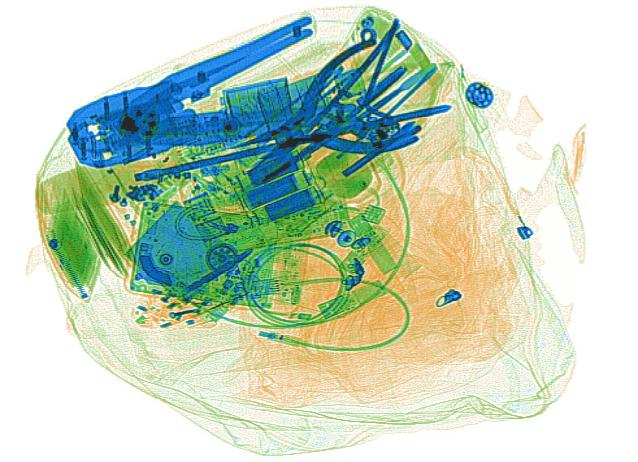USBFlashDisk: (315, 268, 405, 320), (345, 212, 407, 283), (337, 212, 398, 276)
battery: (234, 150, 321, 227), (254, 68, 333, 136), (215, 75, 298, 132)
